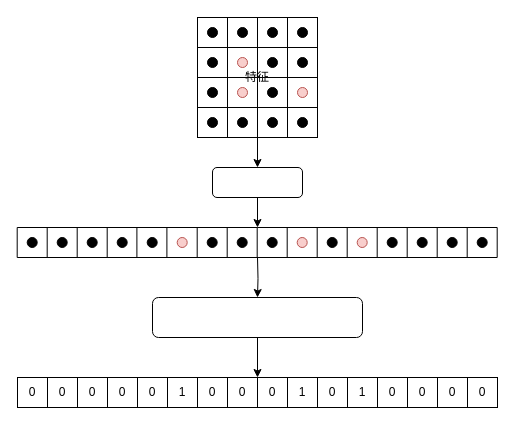
Image size: 516x425. Some labels were removed from this diagram. Here are the shapes that lost their labels. From the top down, the centre of each, then its label:
the point at 257,182: 扁平化
the point at 257,317: 线性模型 判断各个锚点所在的区域是否包含对象
